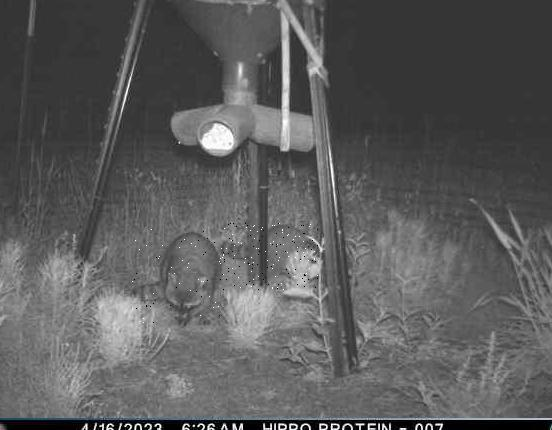Raccoon: (132, 229, 221, 324), (219, 223, 318, 290)
